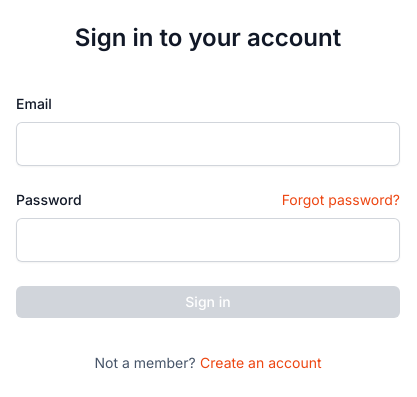
Test: useSignIn › should show invalid password format error
Type "test@example.com" into the field with test id "email". click: (208, 144)
box: [16,122,400,166]
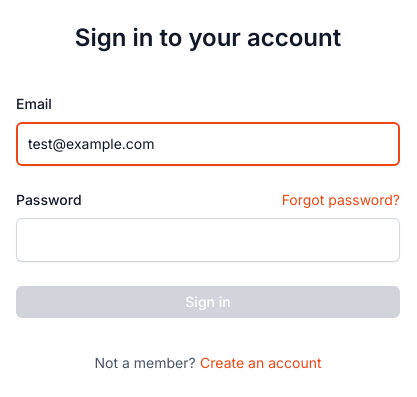
Type "wrong_password" into the password field with test id "password". click: (208, 240)
box: [16,218,400,262]
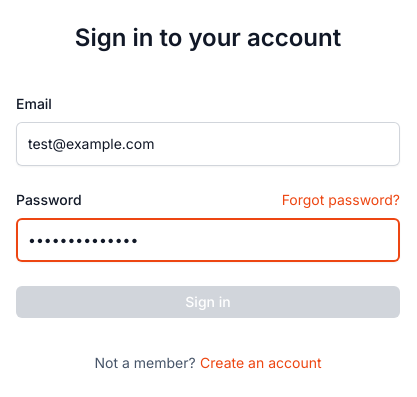
Click the button with test id "submit-button". click: (208, 302)
box: [16,286,400,318]
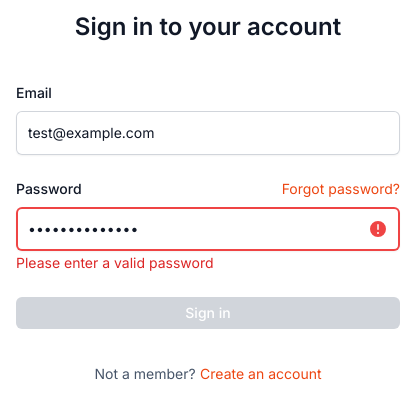
Expected: the button with test id "submit-button" is disabled, [16,297,400,329]
Now the text "Please enter a valid password" is shown, box [16,254,214,271]
